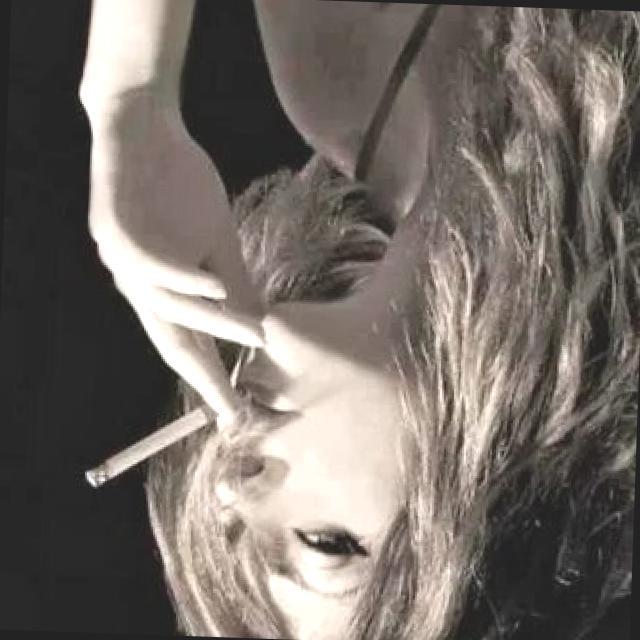smoke: (82, 392, 227, 495)
